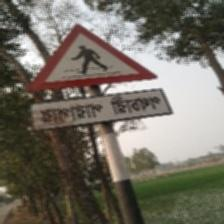Pedestrian-crossing: (26, 22, 170, 134)
